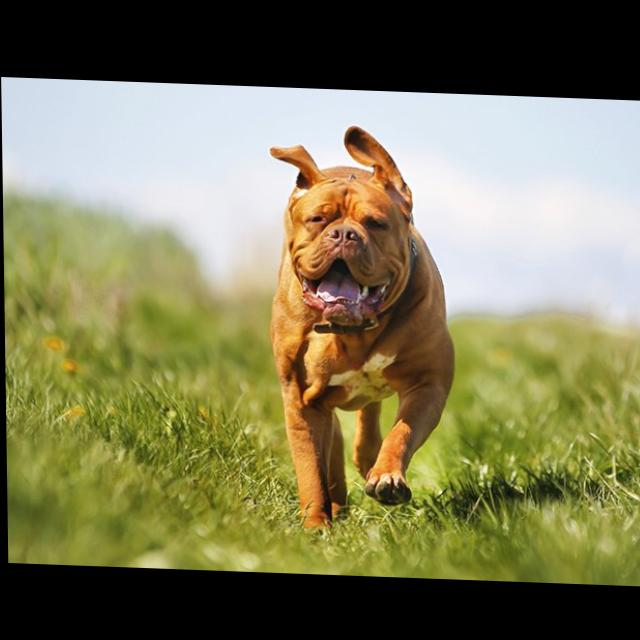dogue_de_bordeaux: (267, 120, 459, 535)
